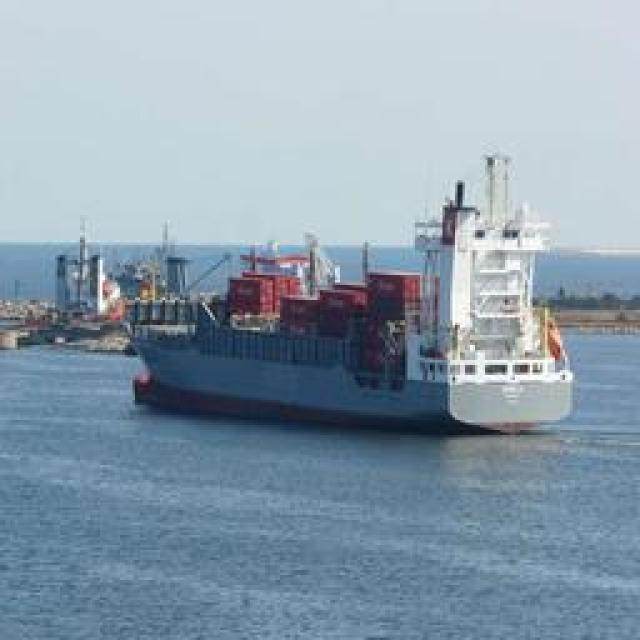CIV_Ship: (132, 165, 576, 433)
